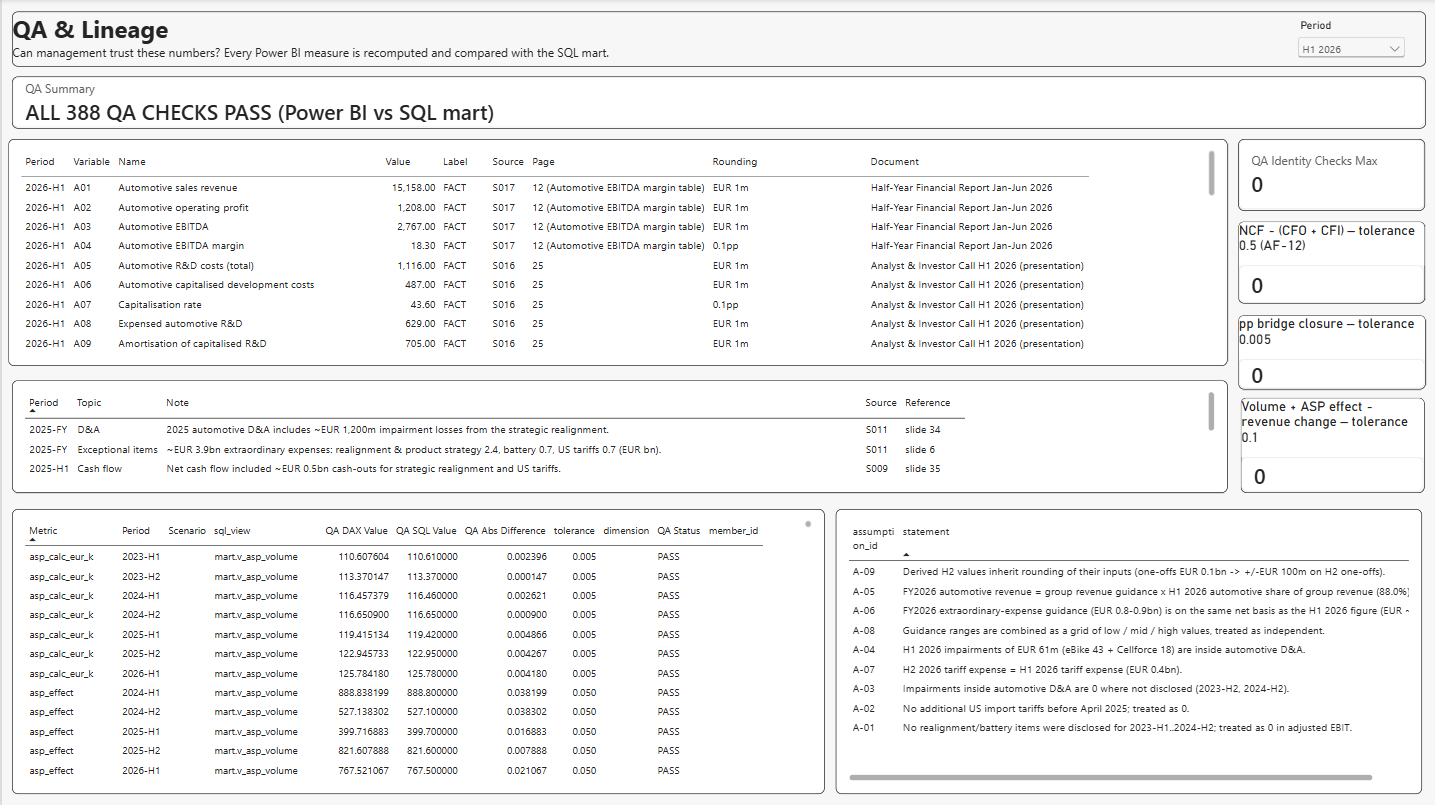

Layout of this report page (visuals, bound fields, positions):
{"tool":"powerbi","page":{"name":"6 QA & Lineage","canvas":[1920,1080],"ordinal":5},"visuals":[{"type":"textbox","box":[13.4,16.7,1888.5,73.5],"z":0},{"type":"cardVisual","fields":{"Data":["RefSQL.QA Summary"]},"box":[14,102.9,1889,69.8],"z":1000},{"type":"tableEx","fields":{"Values":["RefSQL.metric_key","RefSQL.period_code","RefSQL.scenario_id","RefSQL.sql_view","RefSQL.QA DAX Value","RefSQL.QA SQL Value","RefSQL.QA Abs Difference","RefSQL.tolerance","RefSQL.dimension","RefSQL.QA Status","RefSQL.member_id"]},"box":[13.4,681.3,1085.3,380.7],"z":2000},{"type":"cardVisual","fields":{"Data":["RefSQL.QA Identity Checks Max"]},"box":[1651.7,186.6,249.4,95.9],"z":3000},{"type":"cardVisual","title":"pp bridge closure – tolerance 0.005","fields":{"Data":["FactBridgeYoY.Bridge pp Closure Check"]},"box":[1651.7,422.1,250.4,99.1],"z":4000},{"type":"cardVisual","title":"NCF − (CFO + CFI) – tolerance 0.5 (AF-12)","fields":{"Data":["FactHalfYear.NCF Identity Check"]},"box":[1651.7,296.5,249.4,109.9],"z":5000},{"type":"cardVisual","title":"Volume + ASP effect − revenue change – tolerance 0.1","fields":{"Data":["FactHalfYear.Volume ASP Closure Check"]},"box":[1655.2,532,245.9,127.3],"z":6000},{"type":"slicer","fields":{"Values":["DimPeriod.period_label"]},"box":[1726.5,26.7,151.9,55.1],"z":7000},{"type":"tableEx","fields":{"Values":["FactLineage.period_code","FactLineage.var_id","FactLineage.var_name","FactLineage.value","FactLineage.value_label","FactLineage.source_id","FactLineage.source_ref","FactLineage.rounding","DimSource.document_title"]},"box":[8.7,186.6,1629.1,303.5],"z":8000},{"type":"tableEx","fields":{"Values":["Assumption.assumption_id","Assumption.statement"]},"box":[1113.7,681.3,783.1,380.7],"z":9000},{"type":"tableEx","fields":{"Values":["Annotation.period_code","Annotation.topic","Annotation.note","Annotation.source_id","Annotation.source_ref"]},"box":[14,509.3,1623.8,150],"z":10000}]}

Visuals, with their boxes in screenshot pixels (x1, y1, x2, y2), scaled from the page's 1920x1080 canvas onto the 1435x805 screenshot:
textbox: {"left": 10, "top": 12, "right": 1421, "bottom": 67}
cardVisual - RefSQL.QA Summary: {"left": 10, "top": 77, "right": 1422, "bottom": 129}
tableEx - RefSQL.metric_key x RefSQL.period_code: {"left": 10, "top": 508, "right": 821, "bottom": 792}
cardVisual - RefSQL.QA Identity Checks Max: {"left": 1234, "top": 139, "right": 1421, "bottom": 211}
"pp bridge closure – tolerance 0.005" cardVisual: {"left": 1234, "top": 315, "right": 1422, "bottom": 388}
"NCF − (CFO + CFI) – tolerance 0.5 (AF-12)" cardVisual: {"left": 1234, "top": 221, "right": 1421, "bottom": 303}
"Volume + ASP effect − revenue change – tolerance 0.1" cardVisual: {"left": 1237, "top": 397, "right": 1421, "bottom": 491}
slicer - DimPeriod.period_label: {"left": 1290, "top": 20, "right": 1404, "bottom": 61}
tableEx - FactLineage.period_code x FactLineage.var_id: {"left": 7, "top": 139, "right": 1224, "bottom": 365}
tableEx - Assumption.assumption_id x Assumption.statement: {"left": 832, "top": 508, "right": 1418, "bottom": 792}
tableEx - Annotation.period_code x Annotation.topic: {"left": 10, "top": 380, "right": 1224, "bottom": 491}
